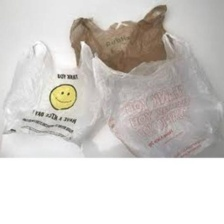plastic_bag: (90, 30, 224, 160), (0, 36, 115, 154), (66, 3, 173, 80)
